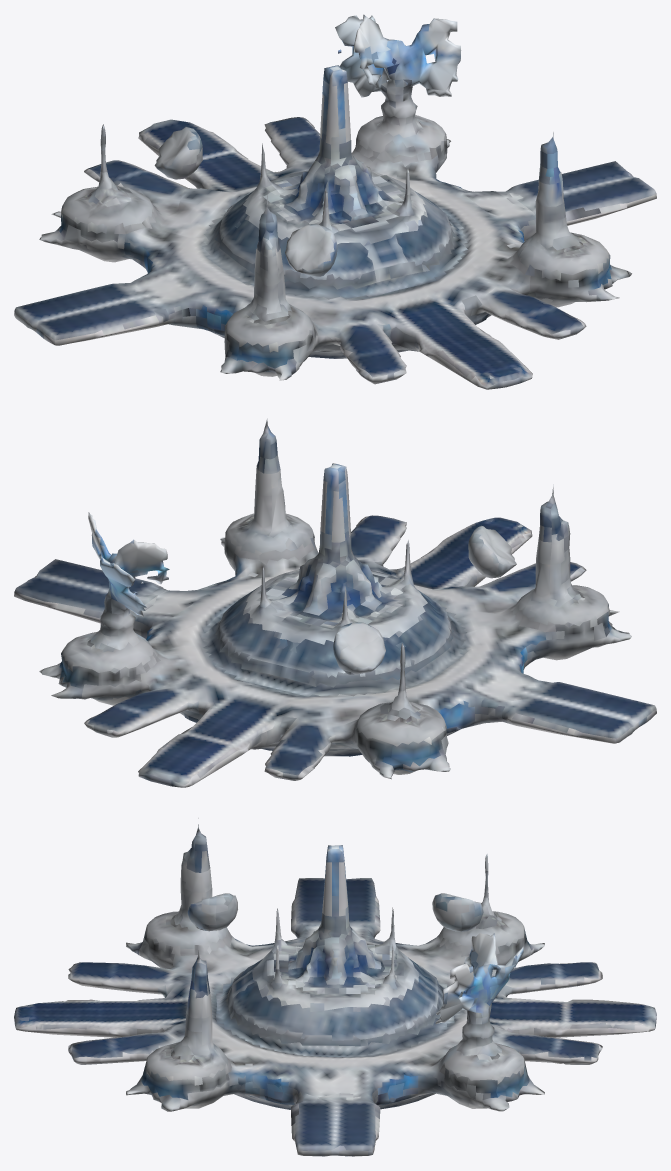
Rendered from alliance_research_outpost_lod1.glb.
3 views of the same model, one above another, from view 1: azimuth 30°, elevation 25°; view 2: azimuth 150°, elevation 25°; view 3: azimuth 270°, elevation 25° (orthographic). The views are drawn at different scales.
Parts seen in each view (by area): view 1: model; view 2: model; view 3: model.
Part boxes in pixels (x1,y1,x2,y2): model: (14, 14, 656, 389); model: (14, 418, 656, 787); model: (14, 818, 656, 1156).
Bounding box in the file's own units: 1.87 × 0.7653 × 1.88.
Materials: 1 (1 with a texture image).
